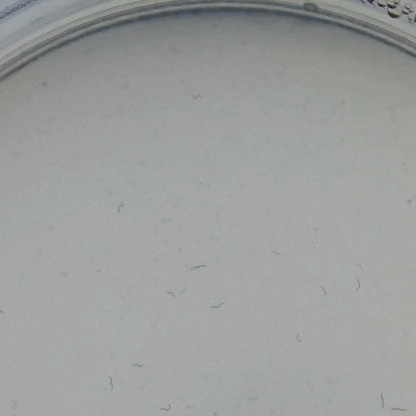worm: (203, 294, 229, 316), (183, 257, 211, 277), (311, 280, 333, 303), (102, 372, 123, 393), (160, 283, 180, 305), (376, 388, 390, 413), (125, 357, 150, 371), (186, 90, 211, 104), (240, 391, 263, 406), (156, 400, 176, 416), (392, 402, 413, 416), (113, 199, 131, 215), (290, 330, 307, 345), (184, 400, 200, 415), (269, 248, 290, 259), (350, 277, 362, 295), (352, 263, 368, 276), (284, 289, 302, 300), (404, 195, 416, 210)
